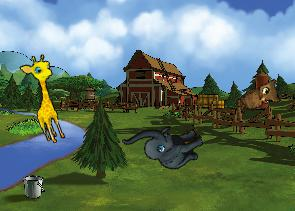elephant: (121, 103, 209, 187)
giraffe: (17, 51, 76, 146)
owl: (233, 74, 287, 124)
